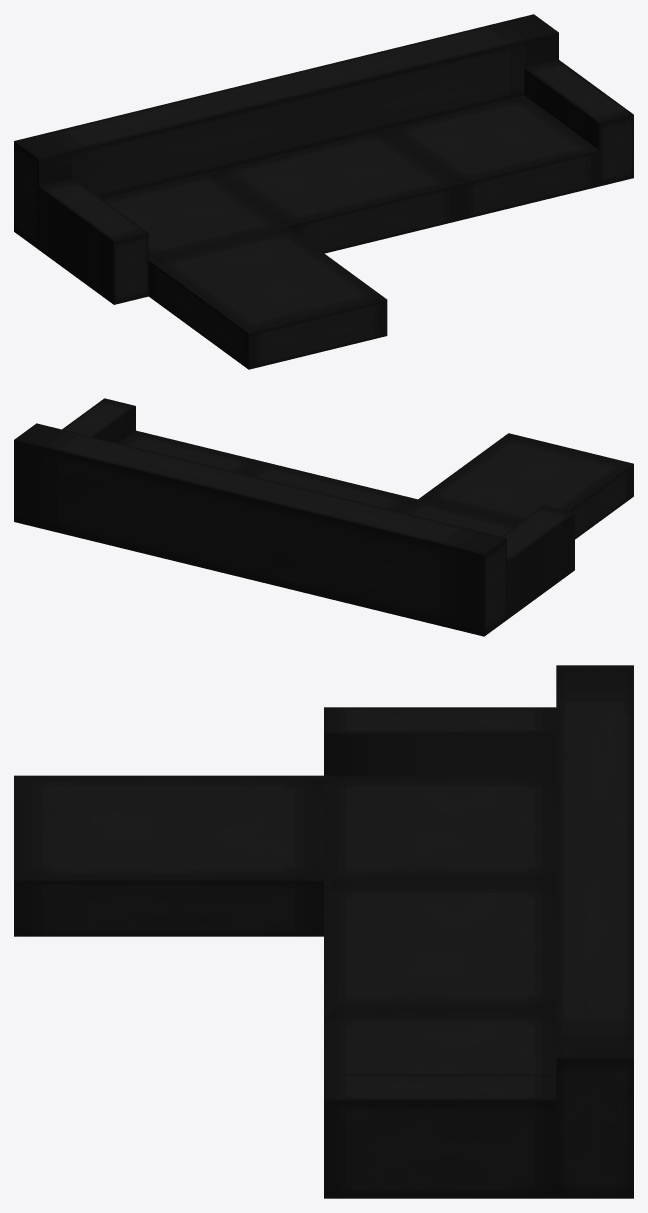
The model's file is couch.dae.
The picture shows the model from 3 angles, top to bottom: view 1: azimuth 30°, elevation 25°; view 2: azimuth 150°, elevation 25°; view 3: azimuth 270°, elevation 25°; orthographic projection. The views are drawn at different scales.
Visible parts, largest first — view 1: Plane; view 2: Plane; view 3: Plane.
Boxes of the visible parts, x1,y1,x2,y2 form: Plane: [14, 14, 633, 369]; Plane: [14, 398, 633, 636]; Plane: [14, 665, 633, 1198].
Size of the model in its own units: 6 by 4 by 1.
Materials: 1 (1 with a texture image).
